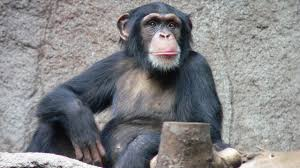Chimpanzee: (64, 11, 220, 160)
